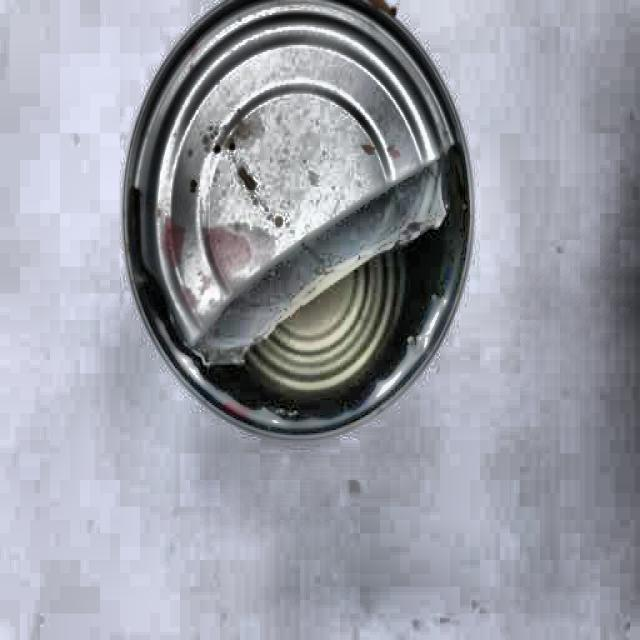metal: (119, 9, 482, 443)
